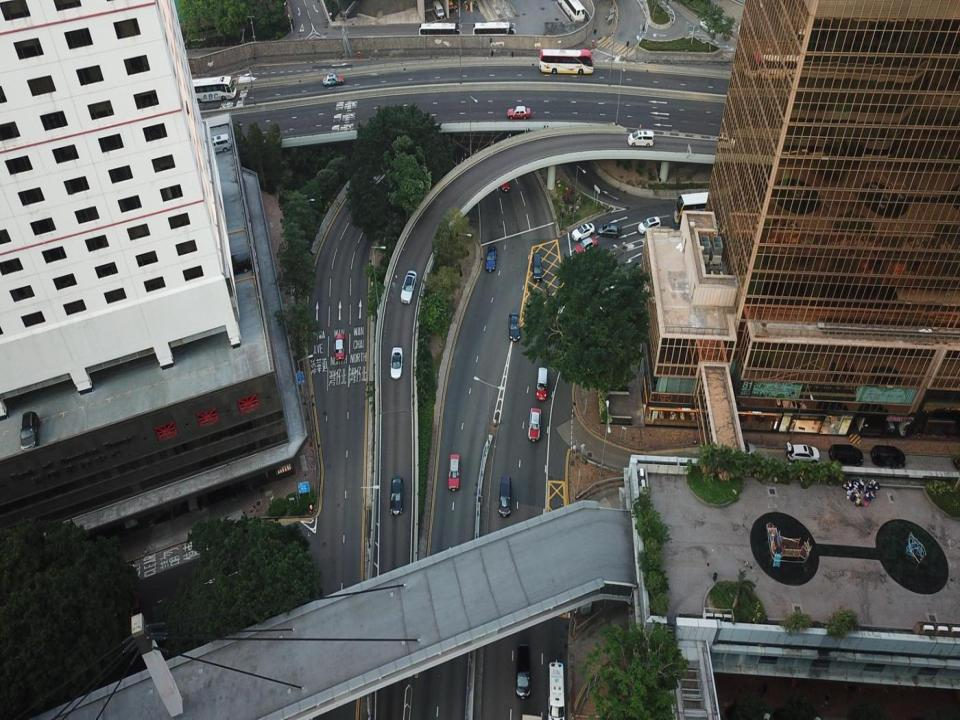bus: (674, 191, 742, 224), (541, 46, 597, 78), (187, 73, 237, 107), (186, 75, 236, 104), (418, 20, 461, 44), (474, 17, 518, 40)
car: (868, 444, 909, 472), (828, 443, 866, 466), (785, 442, 823, 464), (20, 407, 38, 452), (446, 452, 462, 494), (402, 269, 416, 305), (598, 220, 625, 238), (638, 216, 662, 236), (503, 103, 529, 121), (528, 406, 541, 442), (390, 477, 402, 515), (507, 310, 520, 344), (531, 248, 544, 282), (571, 223, 595, 241), (573, 240, 599, 256), (390, 347, 402, 381), (334, 331, 347, 362), (485, 245, 498, 274), (322, 73, 347, 88)
van: (515, 642, 531, 701), (549, 663, 563, 719), (558, 0, 588, 25), (197, 132, 232, 152), (498, 474, 511, 514), (537, 365, 548, 403), (626, 131, 656, 144), (433, 1, 444, 20)
